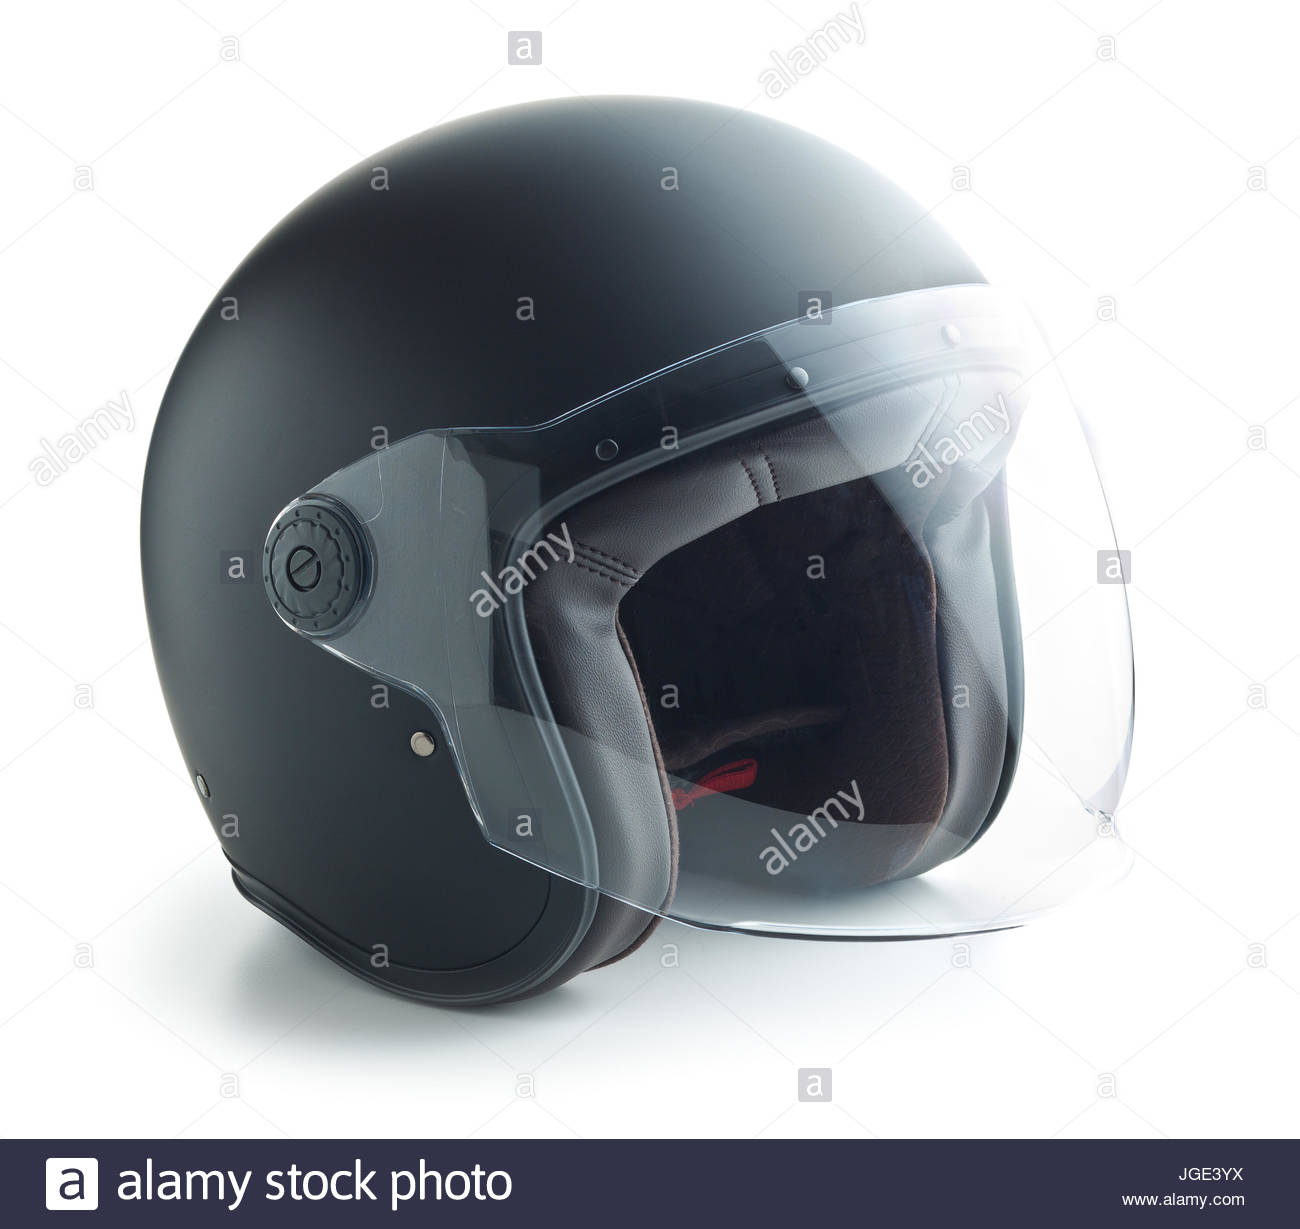with_helmet: (126, 84, 1152, 1022)
